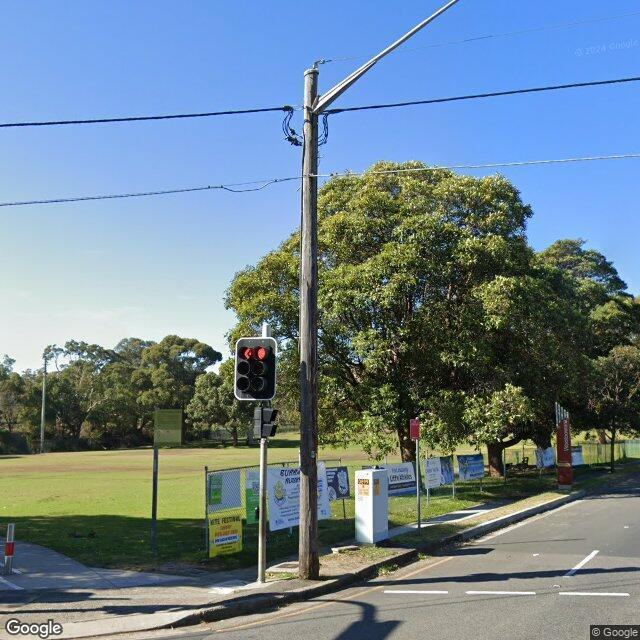steel-pole: (258, 323, 272, 583)
streetlight: (316, 0, 456, 115)
timber-pole: (297, 67, 323, 582)
traffic-light: (234, 338, 276, 401), (254, 406, 278, 438)
